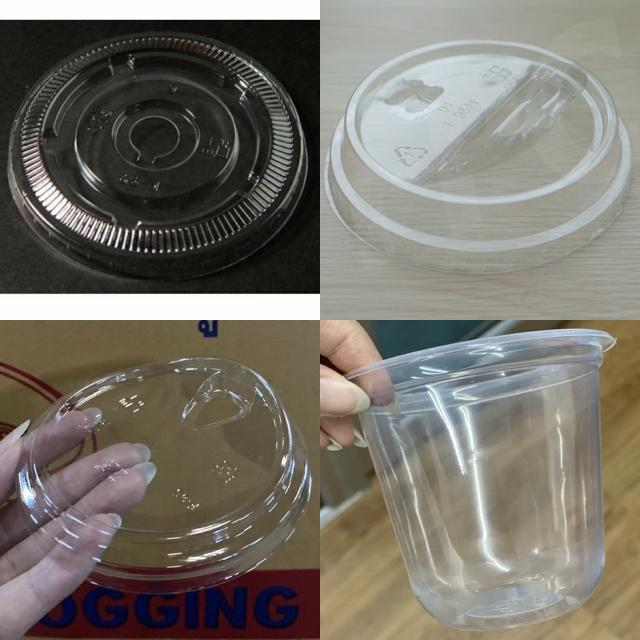Single-Use-Plastic: (349, 329, 615, 629), (8, 32, 308, 279), (325, 40, 632, 273), (16, 358, 311, 592)
